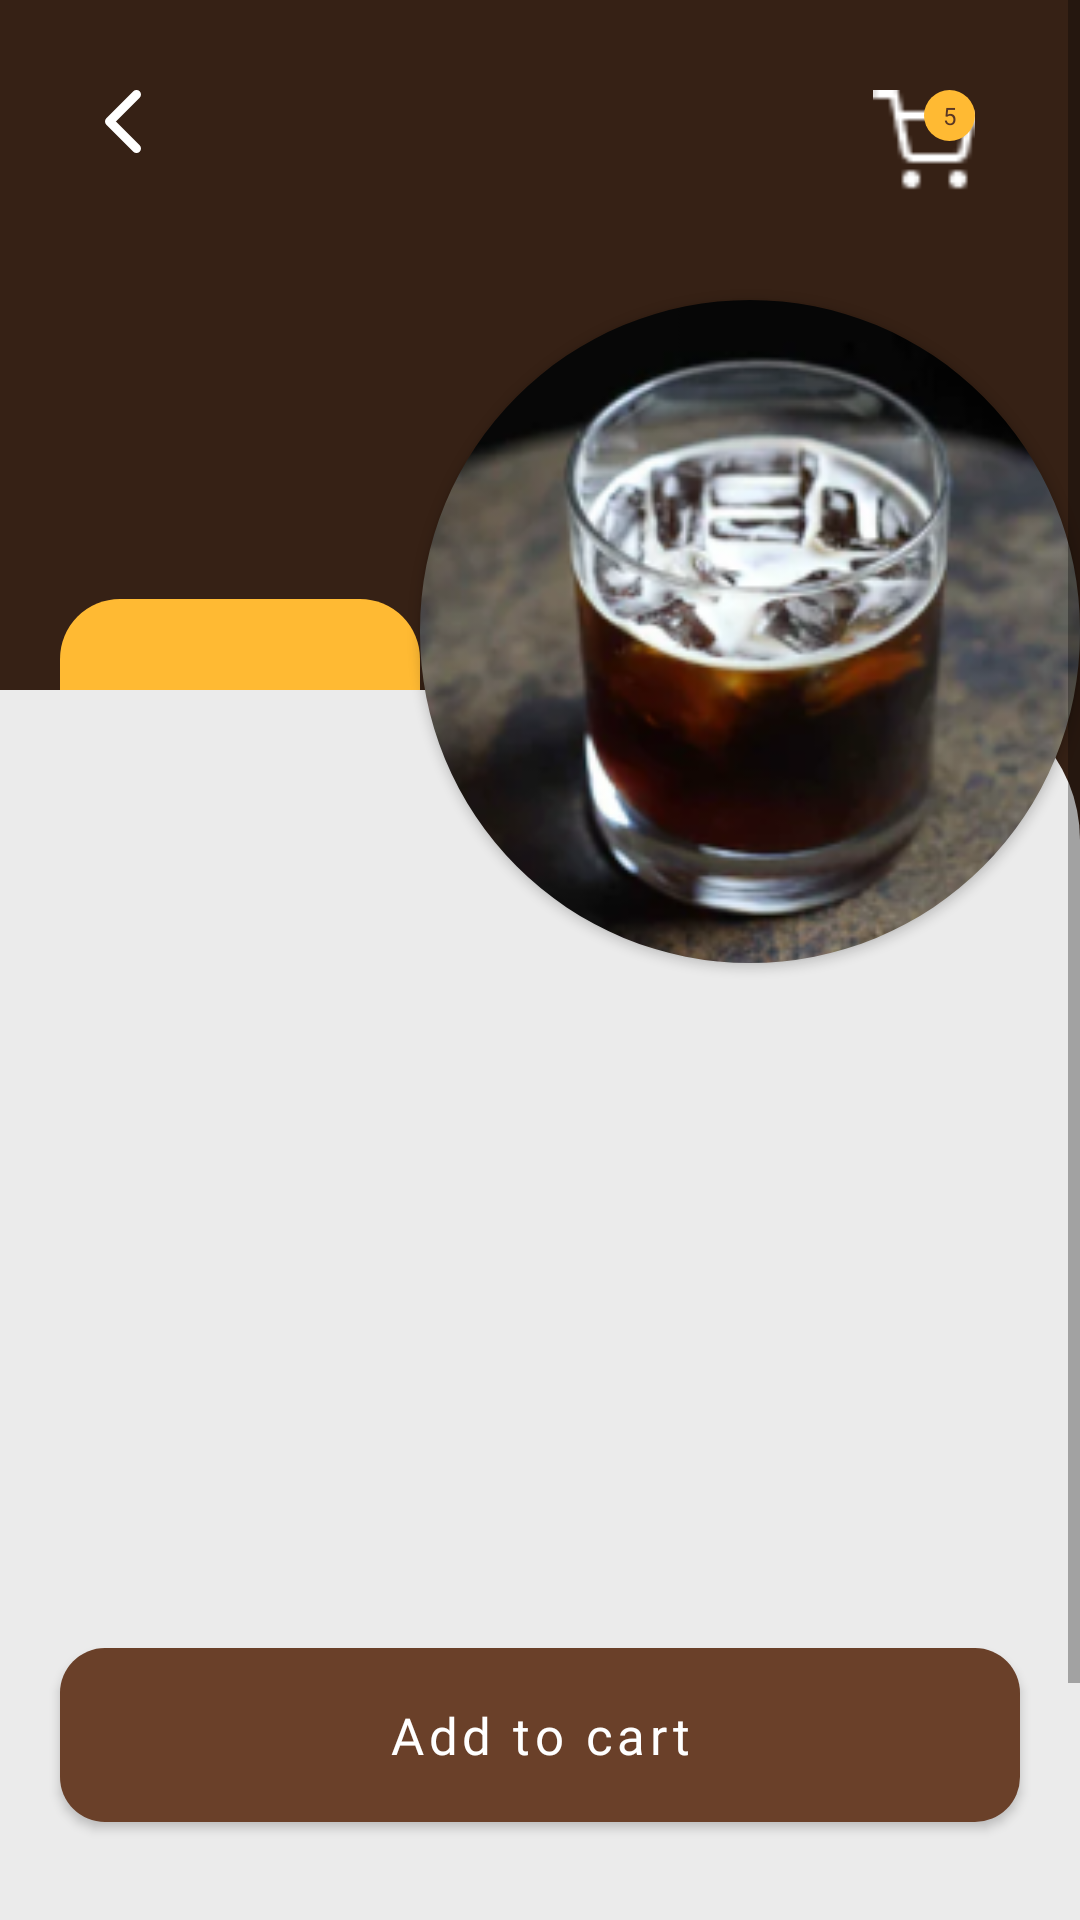

Named icons in this screenshot (1080*1920) and their centers, [x,y]:
cart: [924,139]
row left: [123,121]
